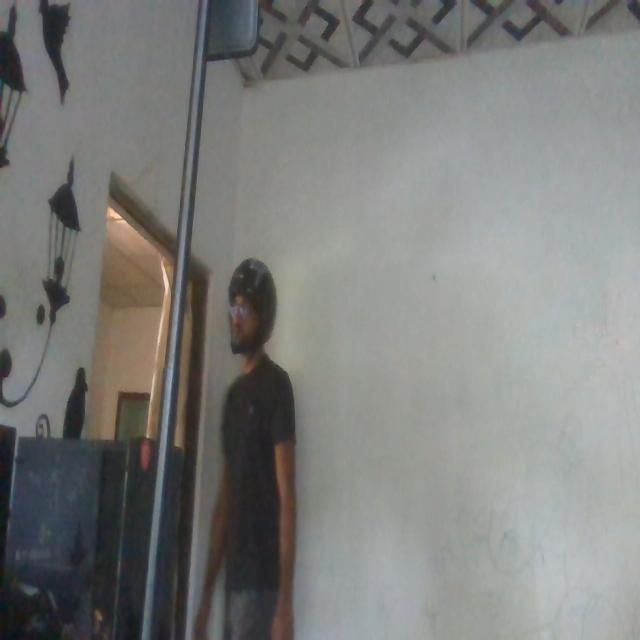Helmet_Wearer: (220, 254, 288, 388)
Person: (194, 258, 298, 640)
